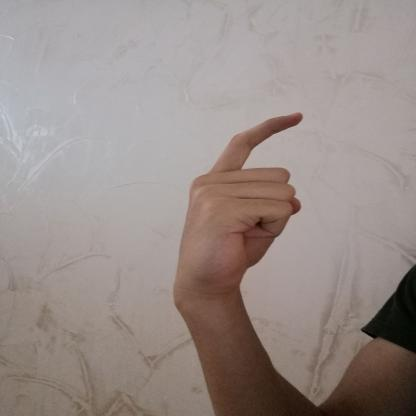RAA: (161, 103, 318, 308)
